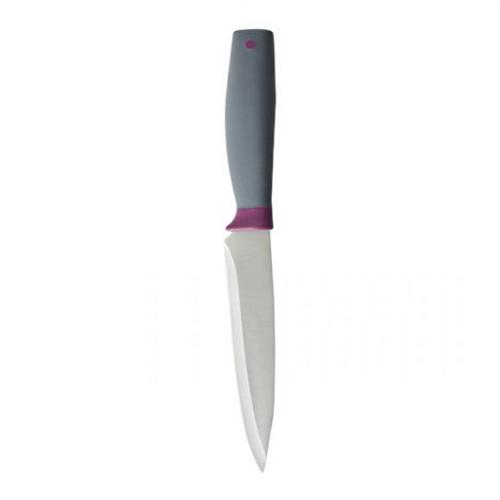knife: (226, 29, 275, 470)
